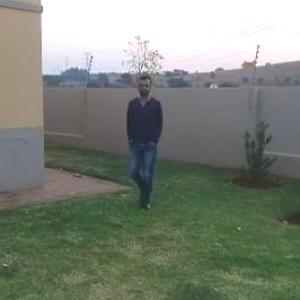follow: (120, 73, 164, 203)
